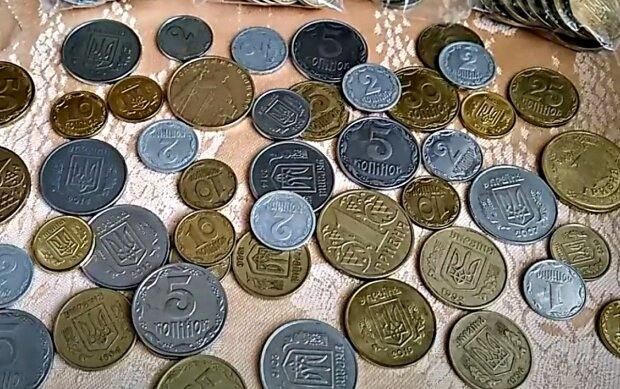coin_1: (529, 266, 577, 316)
coin_10: (51, 91, 110, 139), (175, 214, 235, 261), (178, 160, 237, 207), (411, 181, 455, 228)
coin_1_bn: (328, 195, 405, 275), (173, 59, 248, 124), (551, 133, 615, 204), (0, 153, 32, 222)
coin_2: (0, 307, 47, 389), (341, 63, 399, 112), (154, 14, 212, 63), (251, 90, 309, 139), (255, 195, 312, 244), (138, 120, 195, 169), (231, 24, 289, 72), (423, 130, 480, 178), (441, 40, 499, 86), (0, 243, 26, 300)
coin_25: (513, 70, 576, 120), (305, 85, 341, 137)
coin_5: (142, 269, 215, 348), (89, 209, 161, 288), (50, 135, 122, 214), (65, 18, 138, 85), (478, 171, 551, 236), (272, 324, 344, 389), (259, 144, 328, 202), (349, 120, 408, 184), (298, 21, 362, 77)
coin_50: (0, 62, 29, 123)
